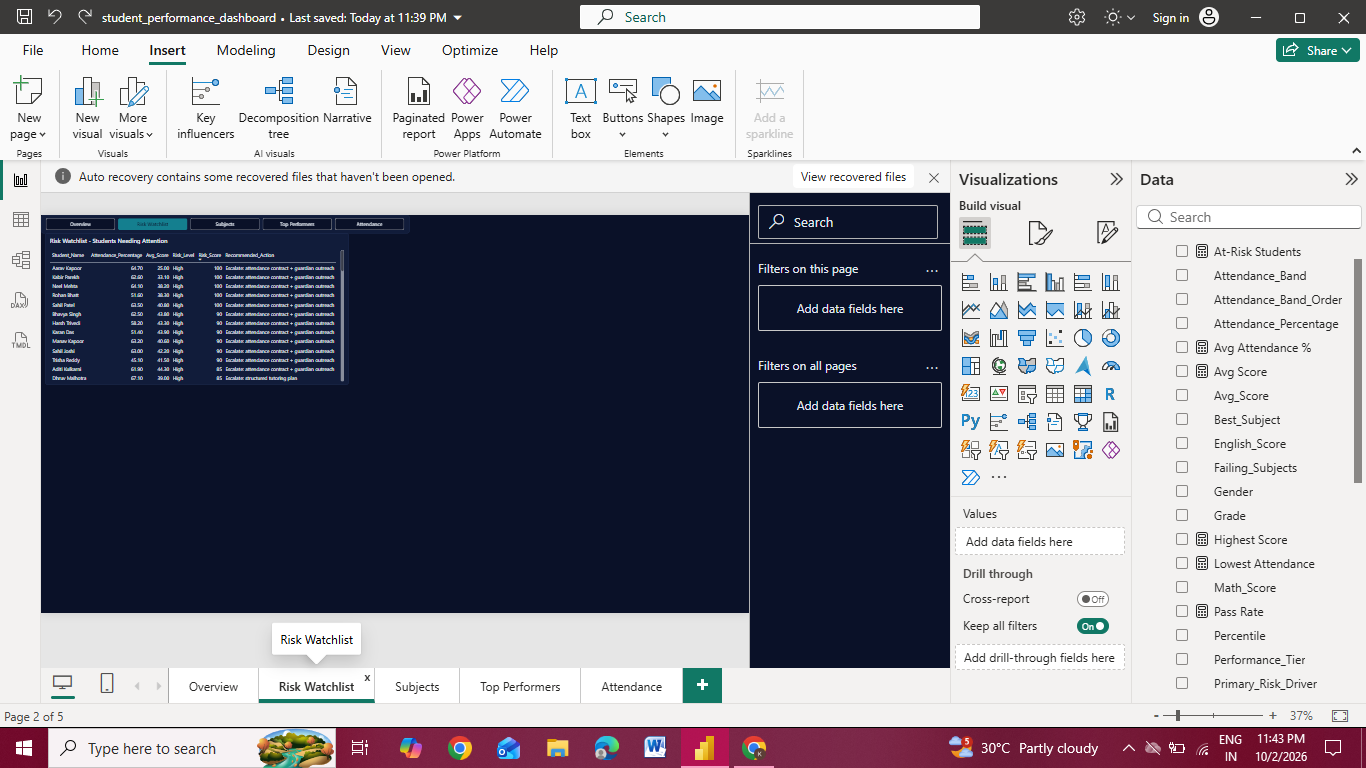

The dashboard page shown, as its layout file describes it:
{"tool":"powerbi","page":{"name":"Risk Watchlist","canvas":[1920,1080],"ordinal":1},"visuals":[{"type":"tableEx","title":"Risk Watchlist - Students Needing Attention","fields":{"Values":["students.Student_Name","students.Attendance_Percentage","students.Avg_Score","students.Risk_Level","students.Risk_Score","students.Recommended_Action"]},"box":[10.8,48.8,824.4,412.2],"z":0},{"type":"pageNavigator","box":[0,0,1000,50],"z":1}]}

Visuals, with their boxes on the page's 1920x1080 design canvas (x1, y1, x2, y2). These are canvas units, not pixel positions in the 1366x768 screenshot, which may show the page scaled, cropped or inside an application window:
"Risk Watchlist - Students Needing Attention" tableEx: <bbox>11, 49, 835, 461</bbox>
pageNavigator: <bbox>0, 0, 1000, 50</bbox>
